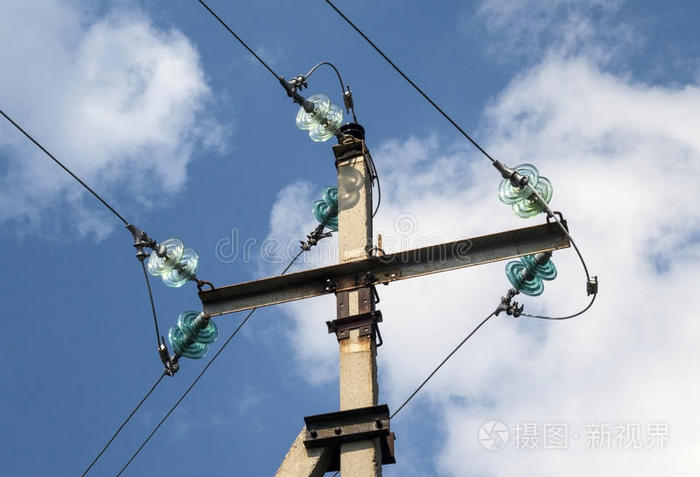insulator: (498, 164, 553, 219), (148, 239, 200, 288), (167, 313, 220, 361), (297, 93, 341, 141), (507, 255, 556, 298), (313, 184, 340, 231)
